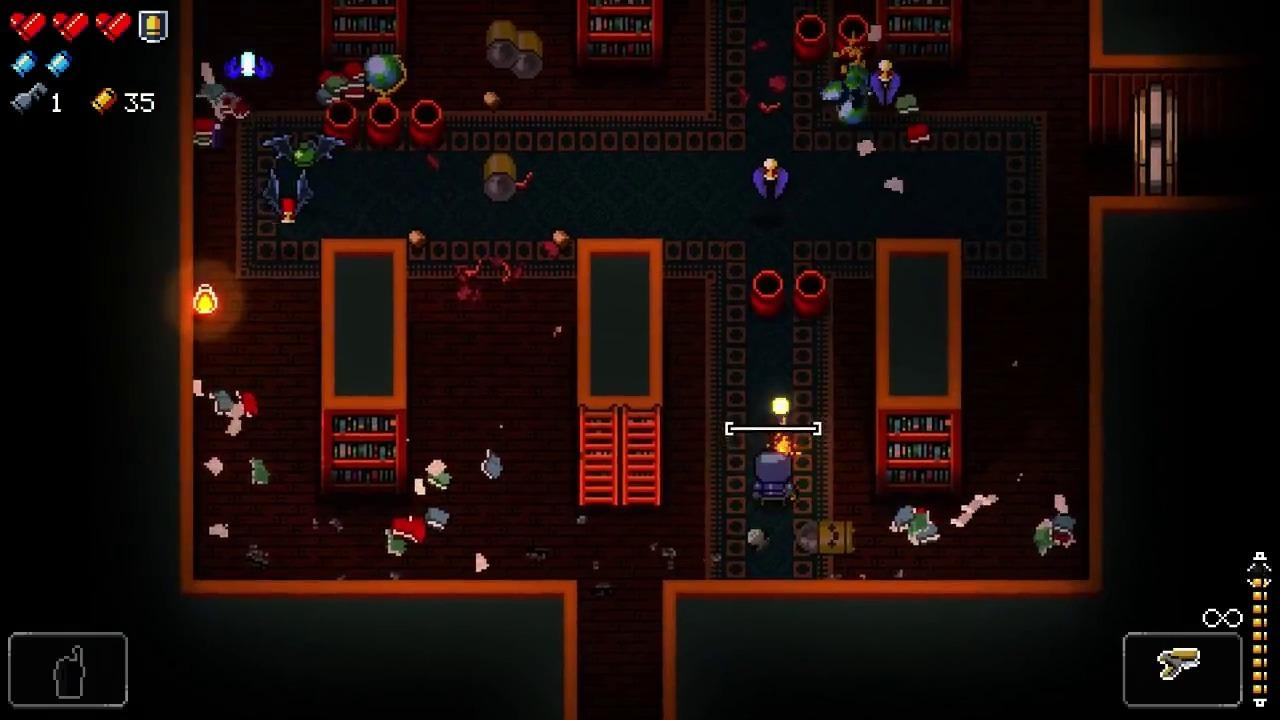bullat: (868, 57, 903, 108), (751, 157, 790, 199)
dead_bullet_kin: (794, 519, 856, 555), (482, 156, 516, 202), (486, 20, 518, 65), (518, 31, 543, 80)
grenat: (258, 134, 346, 168)
locked_door: (1134, 81, 1183, 201)
player: (753, 451, 796, 509)
shotgat: (262, 171, 315, 226)
spirat: (222, 51, 276, 82)
